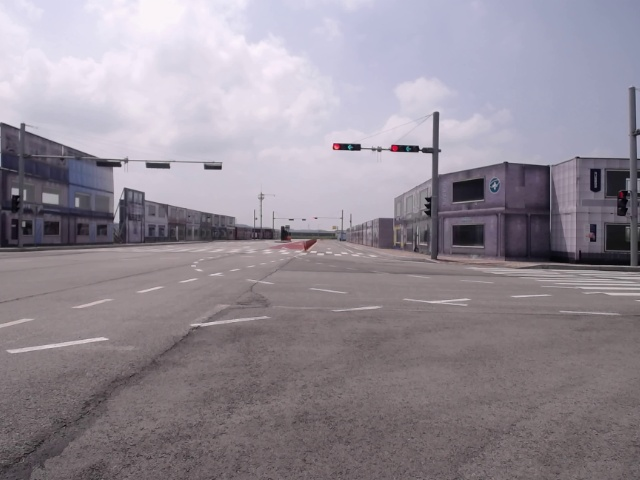left_green_4: (333, 143, 360, 151), (391, 145, 419, 152)
